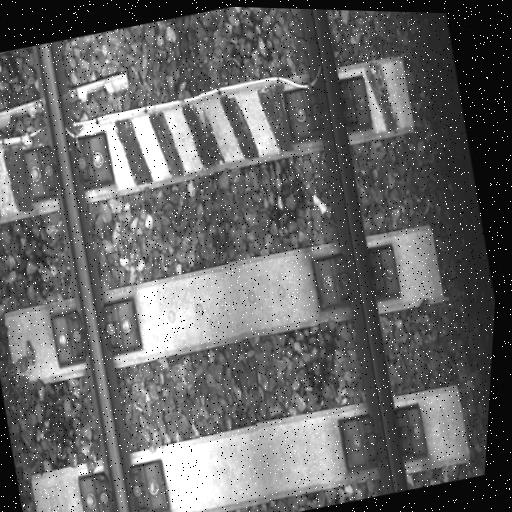sleeper: (0, 216, 447, 399), (0, 46, 418, 228), (27, 378, 474, 512)
